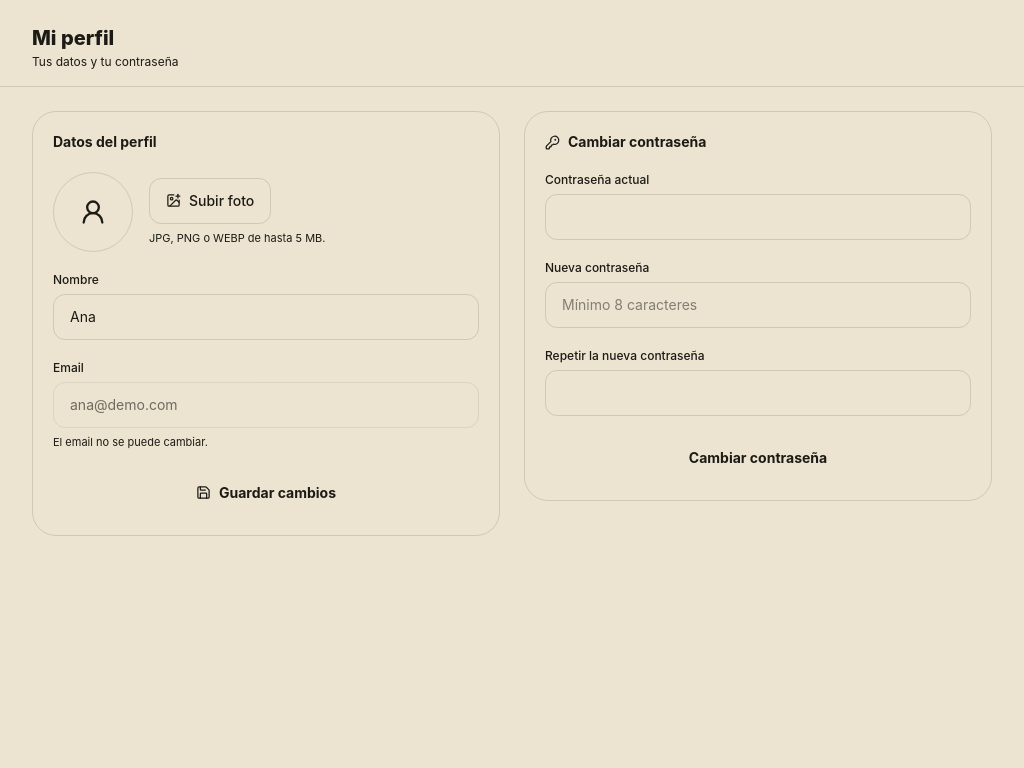
Test: OrganizadorPerfilPage — contraseña › exige la contraseña actual
This screenshot has width=1024, height=768.
Expected: the field showing "Ana" is shown, [53,294,479,340]
In the password field labelled "Nueva contraseña": x=758, y=305 [545,282,971,328], type "Nueva1234"
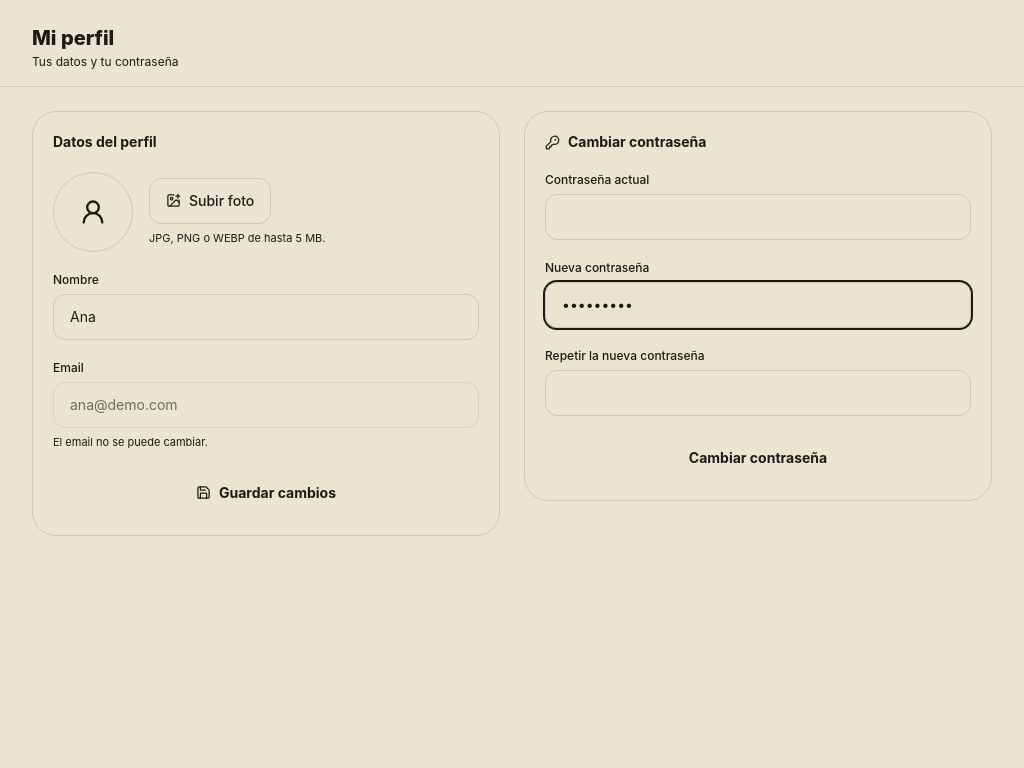
In the password field labelled "Repetir la nueva contraseña": x=758, y=393 [545,370,971,416], type "Nueva1234"
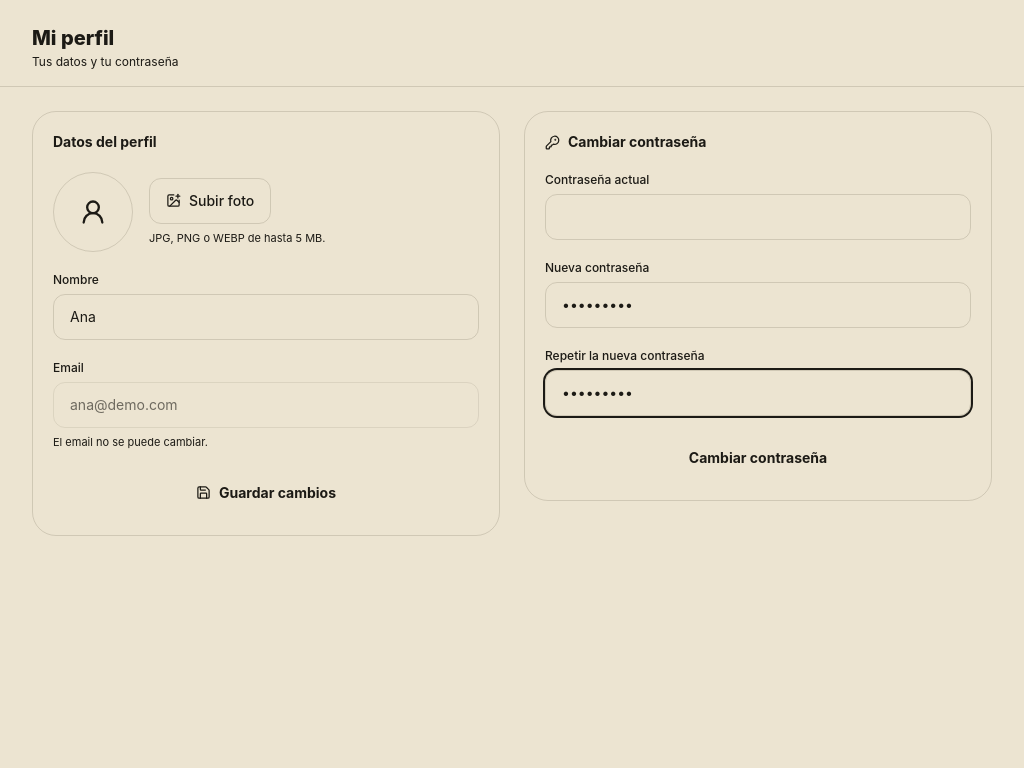
Click the button "Cambiar contraseña": x=758, y=458 [545,436,971,480]
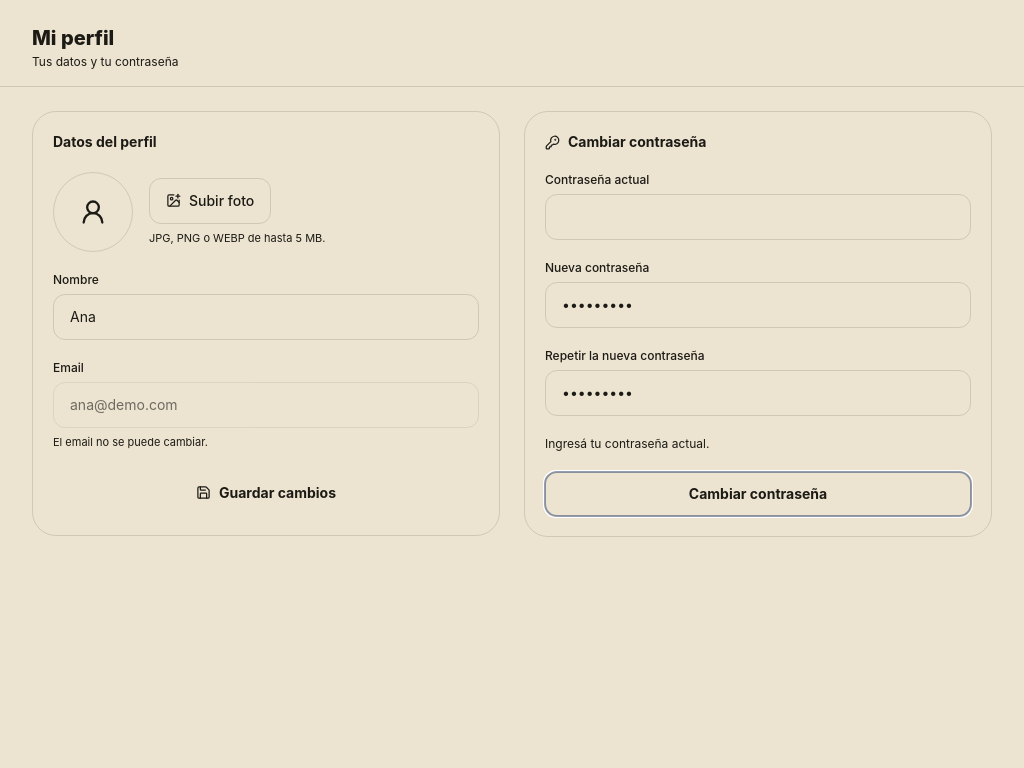
Now the text "Ingresá tu contraseña actual." is shown, box [545,436,709,451]
